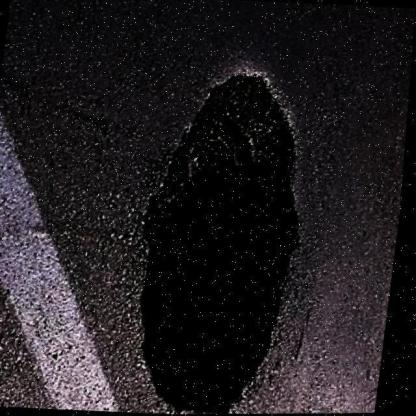pothole: (124, 67, 327, 416)
